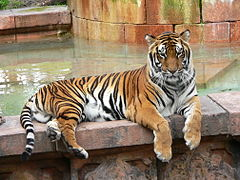Tigrew: (24, 29, 211, 159)
